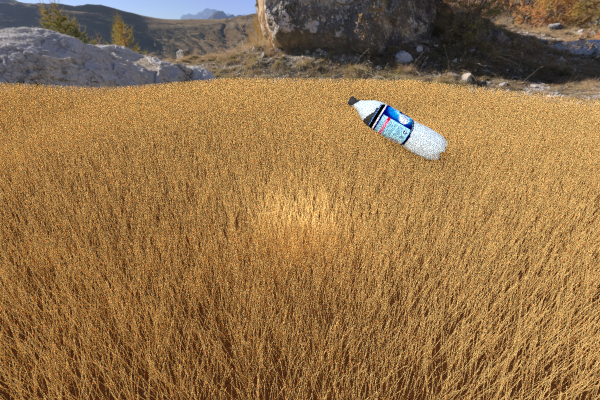Plastic Bottle: (347, 96, 447, 160), (163, 97, 210, 121)
